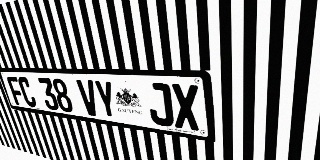3: (37, 78, 60, 111)
8: (51, 78, 74, 113)
C: (17, 77, 38, 108)
F: (6, 76, 26, 106)
J: (146, 82, 174, 127)
V: (76, 79, 101, 117)
X: (171, 84, 201, 131)
Y: (93, 80, 119, 119)
